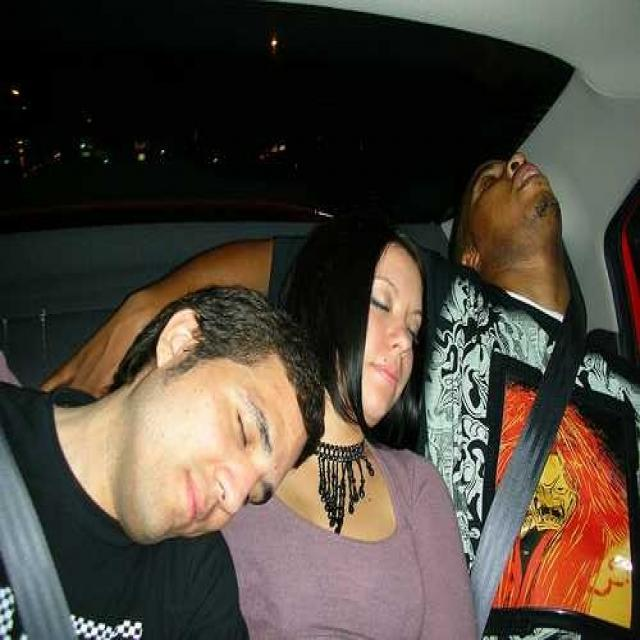seatbelt: (485, 282, 597, 564), (5, 372, 86, 620)
